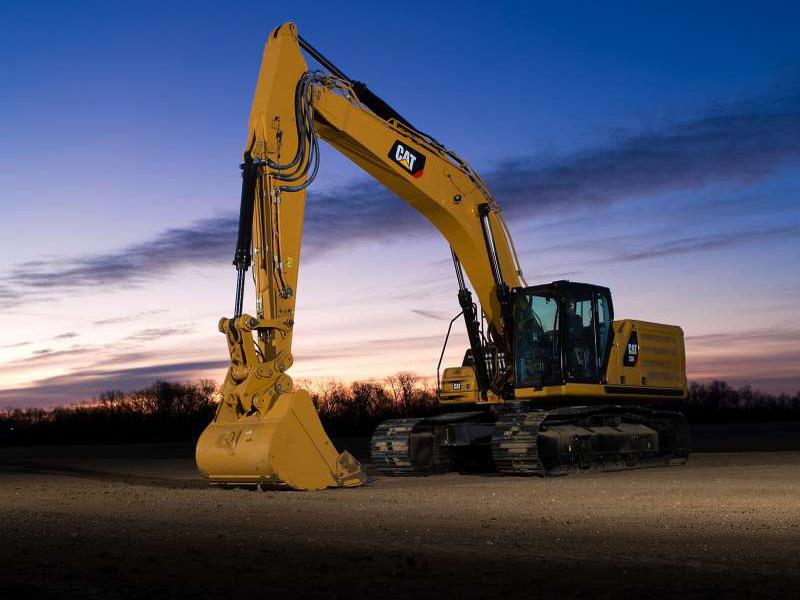shovel: (186, 16, 698, 496)
